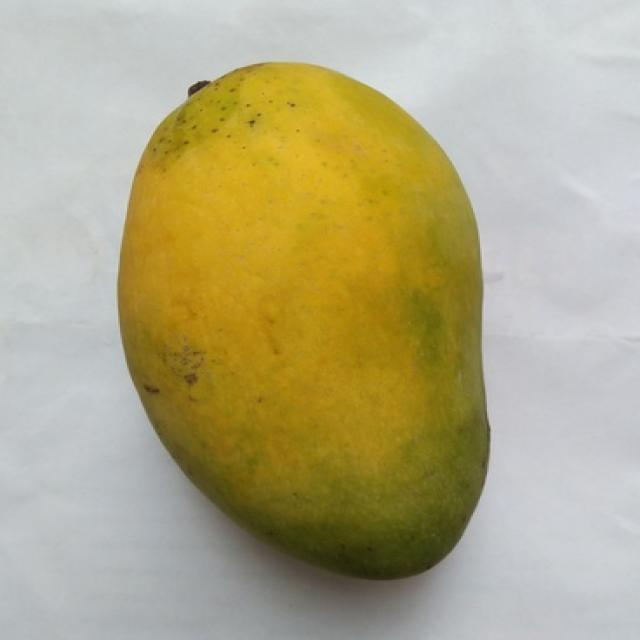Mango: (118, 63, 487, 576)
